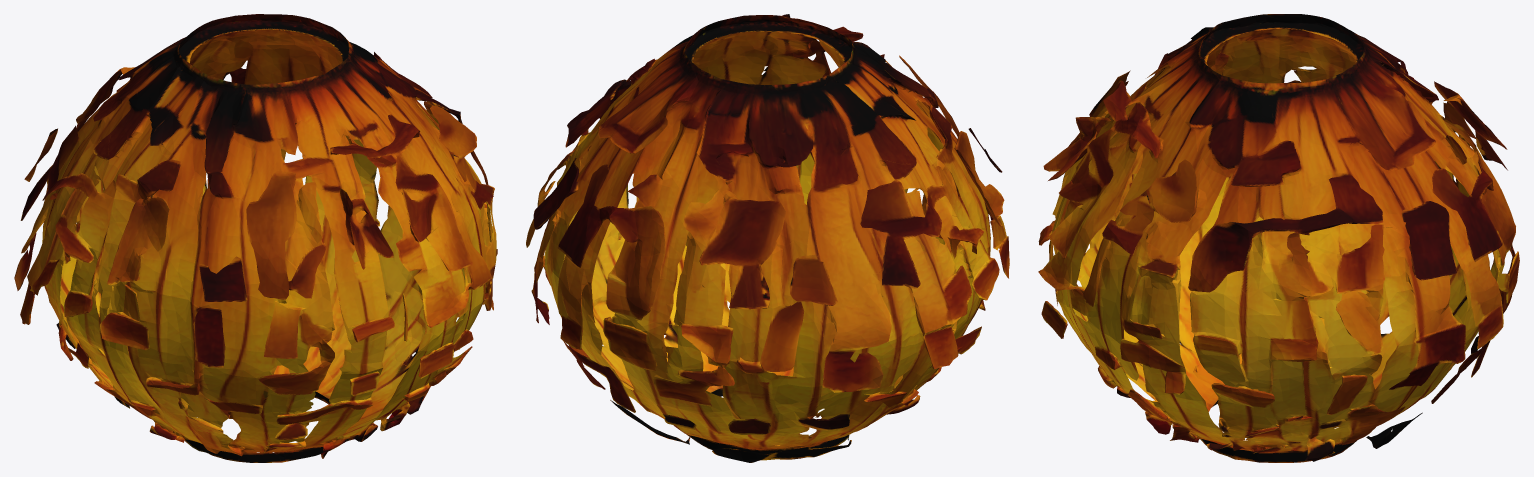
Rendered from recycled-paper-lamp-rustic.jpeg.glb.
The picture shows the model from 3 angles, left to right: view 1: azimuth 30°, elevation 25°; view 2: azimuth 150°, elevation 25°; view 3: azimuth 270°, elevation 25°; orthographic projection.
Parts seen in each view (by area): view 1: world; view 2: world; view 3: world.
Boxes of the visible parts, x1,y1,x2,y2 form: world: (14,14,497,462); world: (526,14,1009,462); world: (1038,14,1519,462).
Bounding box in the file's own units: 0.986 × 0.8613 × 0.9894.
Materials: 1 (1 with a texture image).
